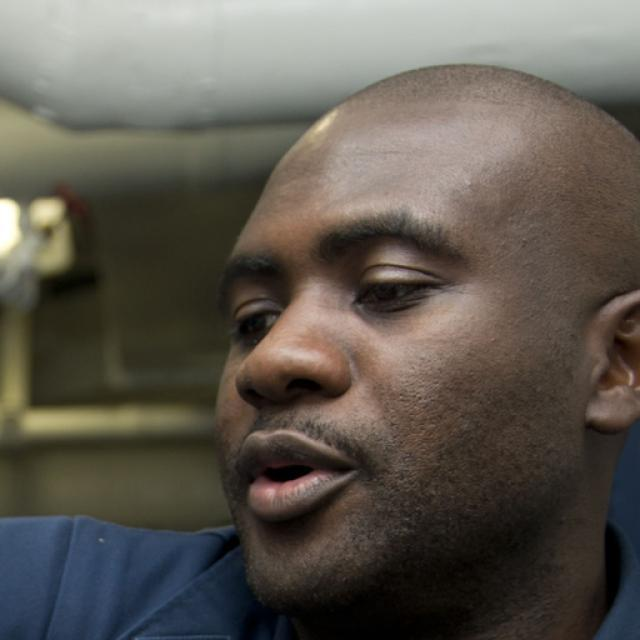neutral: (209, 83, 587, 618)
